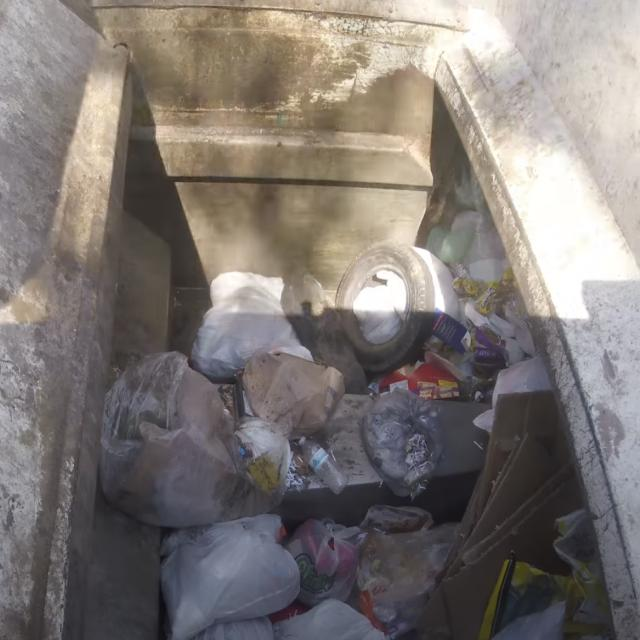bag: (105, 351, 243, 541), (156, 510, 307, 624), (184, 259, 306, 381), (352, 386, 466, 514)
cardboard: (437, 390, 584, 627)
paper: (426, 299, 522, 371)
plastic: (284, 431, 360, 504)
trash: (323, 234, 440, 370)
